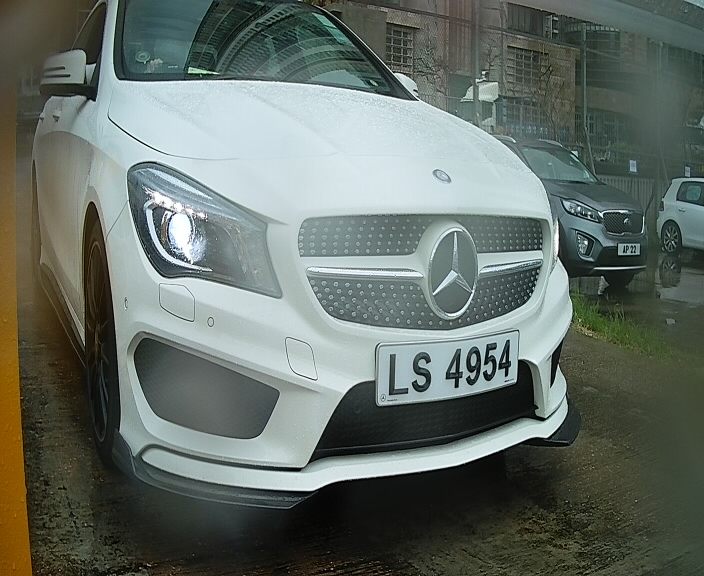Car: (53, 11, 640, 552)
License Plate: (418, 325, 574, 414)
